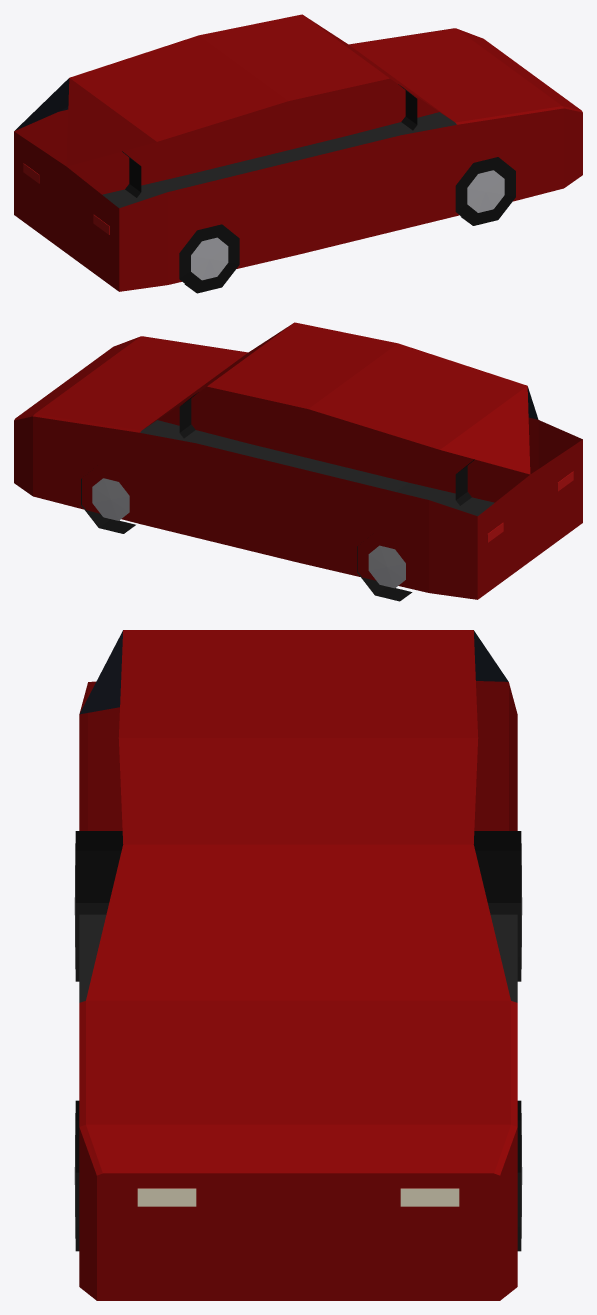
The picture shows the model from 3 angles, top to bottom: view 1: azimuth 30°, elevation 25°; view 2: azimuth 150°, elevation 25°; view 3: azimuth 270°, elevation 25°; orthographic projection. The views are drawn at different scales.
Visible parts, largest first — view 1: car; view 2: car; view 3: car.
Boxes of the visible parts, box(x1,y1,x2,y2) form: car: box(14, 14, 582, 293); car: box(14, 322, 582, 601); car: box(74, 630, 522, 1300).
Size of the model in its own units: 4.43 by 1.45 by 1.84.
